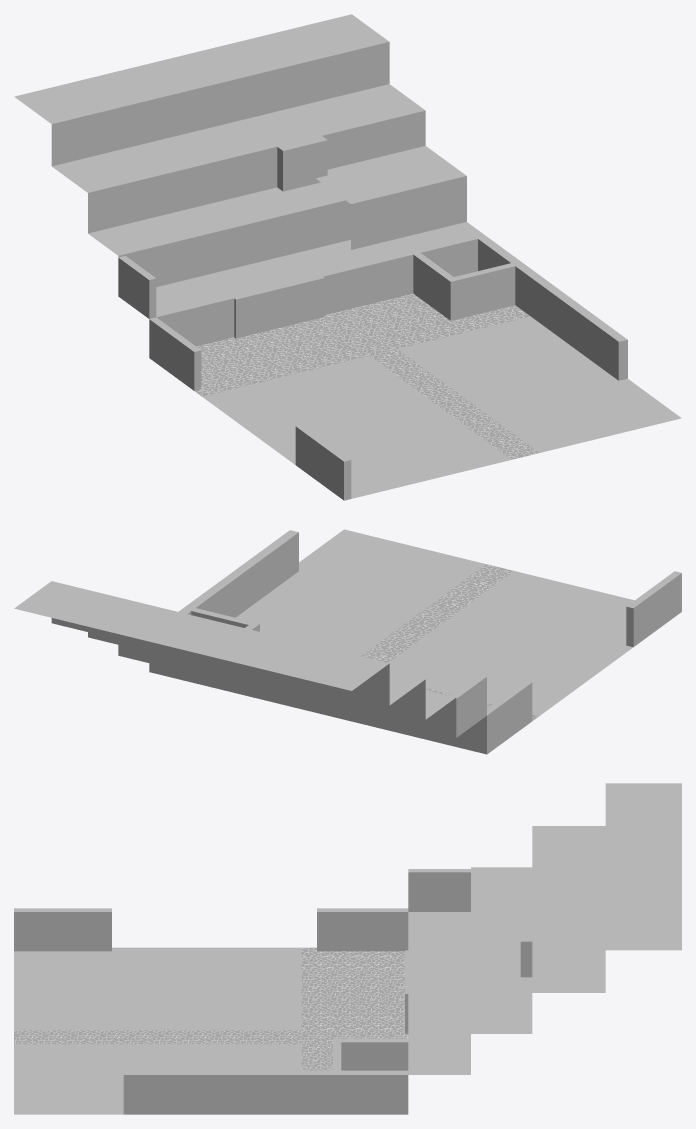
The model's file is Ground.fbx.
The picture shows the model from 3 angles, top to bottom: view 1: azimuth 30°, elevation 25°; view 2: azimuth 150°, elevation 25°; view 3: azimuth 270°, elevation 25°; orthographic projection.
Visible parts, largest first — view 1: Terrain_Main, Plane002, Plane001, Terrain_Wall, Object040, Box577, Box631, TR_3F_Wall; view 2: Terrain_Main, Plane002, Plane001, Terrain_Wall, Object040; view 3: Terrain_Main, Terrain_Wall, Plane002, Object040, Plane001, Box577, TR_3F_Wall.
Part boxes in pixels (x1=…): Terrain_Main: x1=14, y1=14, x2=486, y2=346; Plane002: x1=202, y1=356, x2=510, y2=498; Plane001: x1=398, y1=316, x2=681, y2=452; Terrain_Wall: x1=118, y1=236, x2=627, y2=500; Object040: x1=194, y1=293, x2=539, y2=459; Box577: x1=316, y1=146, x2=466, y2=249; Box631: x1=234, y1=276, x2=324, y2=338; TR_3F_Wall: x1=277, y1=136, x2=327, y2=191; Terrain_Main: x1=14, y1=581, x2=479, y2=752; Plane002: x1=389, y1=571, x2=634, y2=715; Plane001: x1=236, y1=529, x2=485, y2=656; Terrain_Wall: x1=149, y1=530, x2=681, y2=754; Object040: x1=361, y1=564, x2=539, y2=720; Terrain_Main: x1=408, y1=783, x2=681, y2=1074; Terrain_Wall: x1=14, y1=869, x2=470, y2=1114; Plane002: x1=14, y1=947, x2=301, y2=1030; Object040: x1=14, y1=947, x2=408, y2=1070; Plane001: x1=14, y1=1044, x2=301, y2=1114; Box577: x1=449, y1=971, x2=532, y2=1028; TR_3F_Wall: x1=520, y1=919, x2=532, y2=977.
Bounding box in the file's own units: 5472 × 2514 × 9261.
